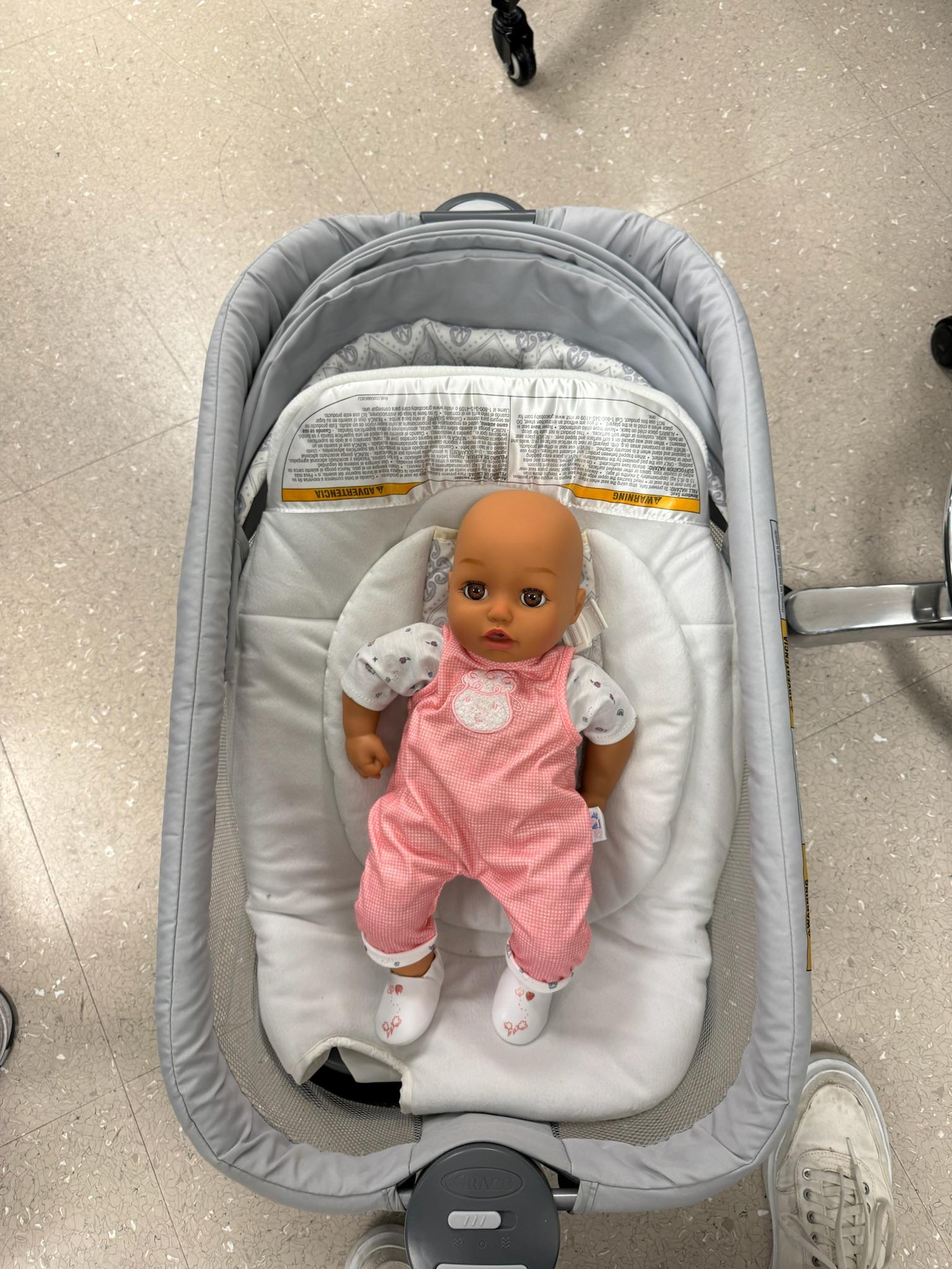baby: (331, 475, 640, 1061)
